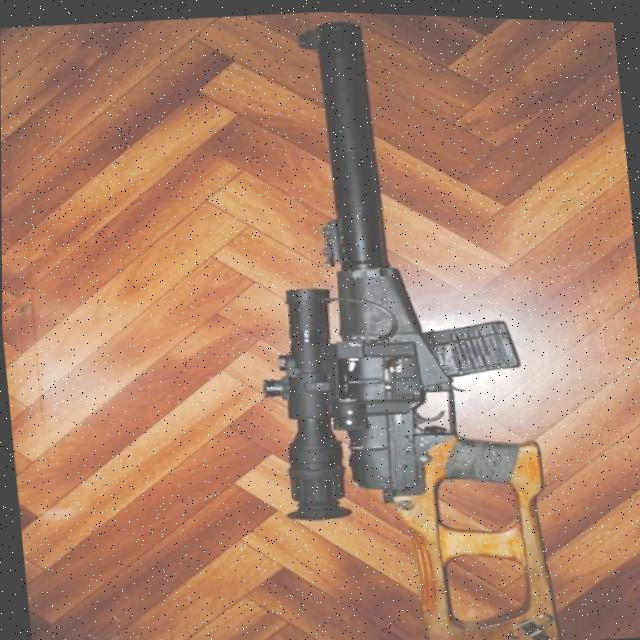firearm: (225, 7, 567, 640)
